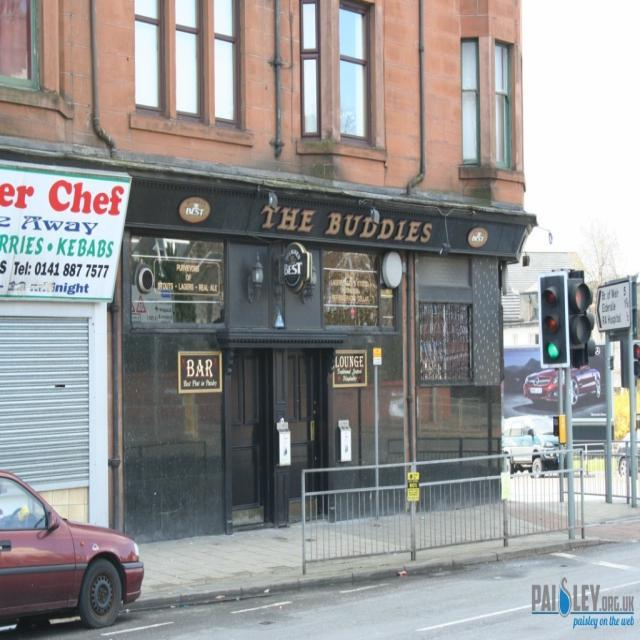traffic light: (540, 269, 568, 371), (568, 278, 591, 353), (633, 340, 640, 381)
